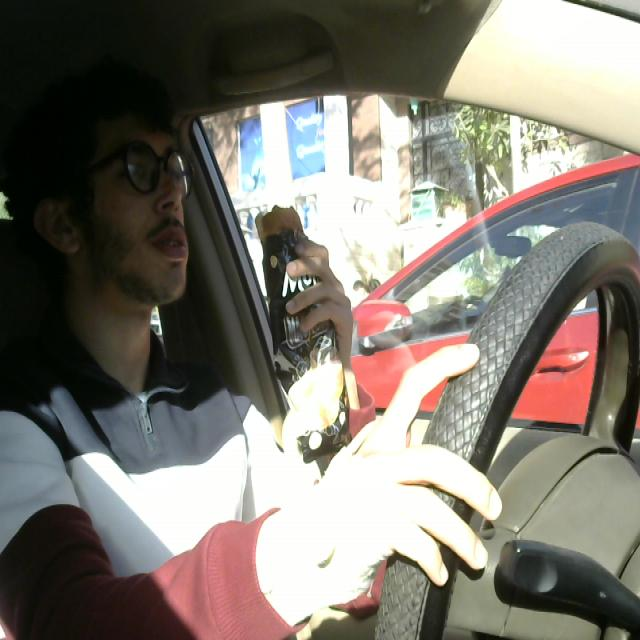eating: (248, 192, 357, 480)
